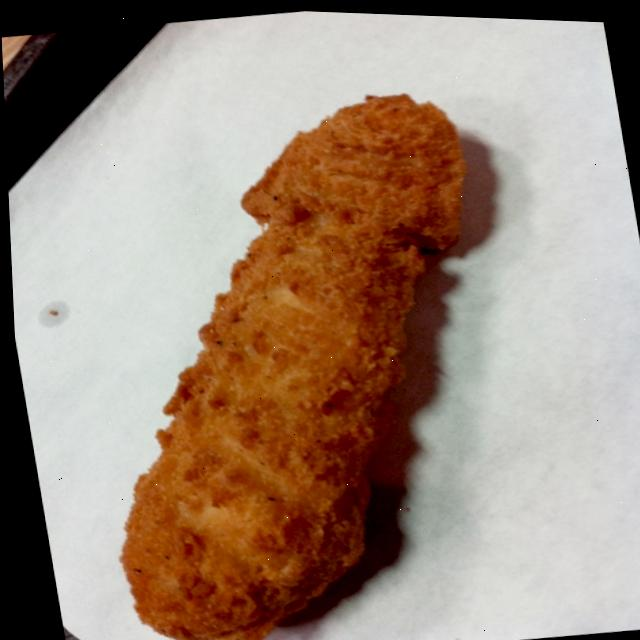鸡肉料理 含炸鸡: (18, 46, 568, 640)
